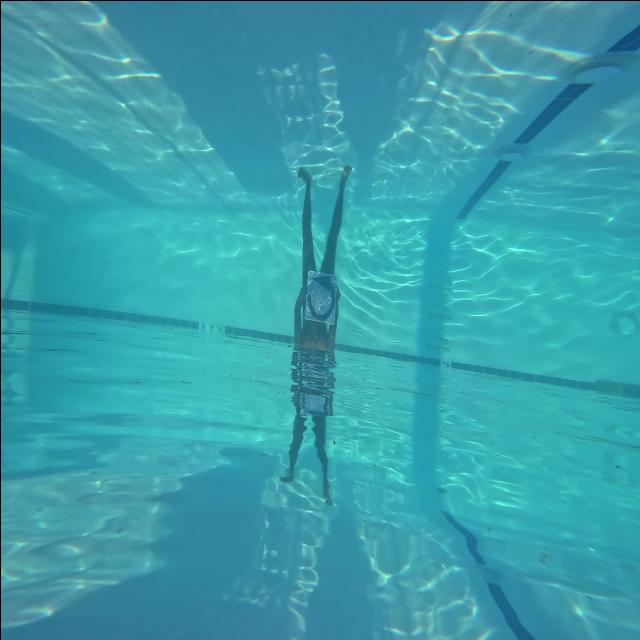blue_side: (303, 271, 337, 324)
